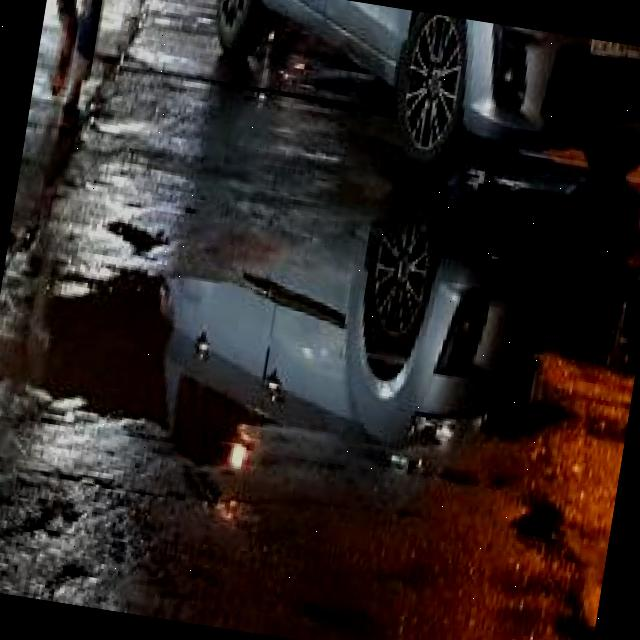stagnation: (12, 197, 470, 518)
